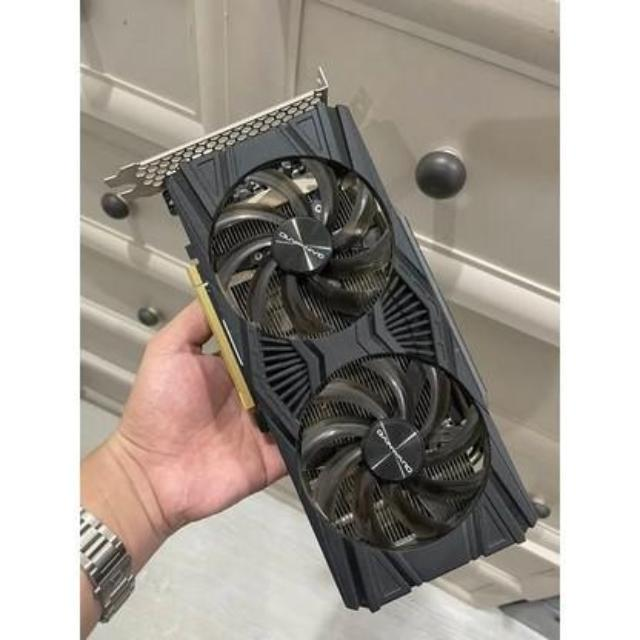GPU: (181, 91, 521, 623)
